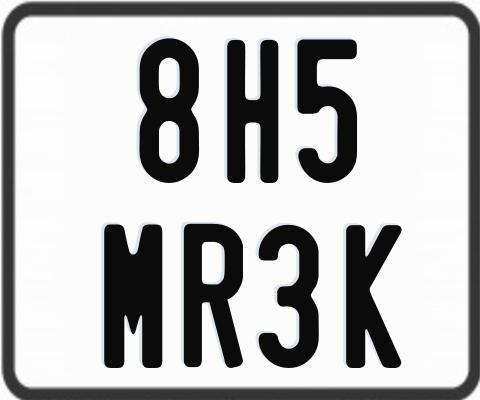3: (257, 222, 319, 369)
5: (294, 38, 360, 188)
8: (136, 38, 200, 188)
H: (226, 39, 278, 184)
K: (345, 225, 405, 370)
M: (101, 223, 163, 370)
R: (181, 222, 242, 367)
